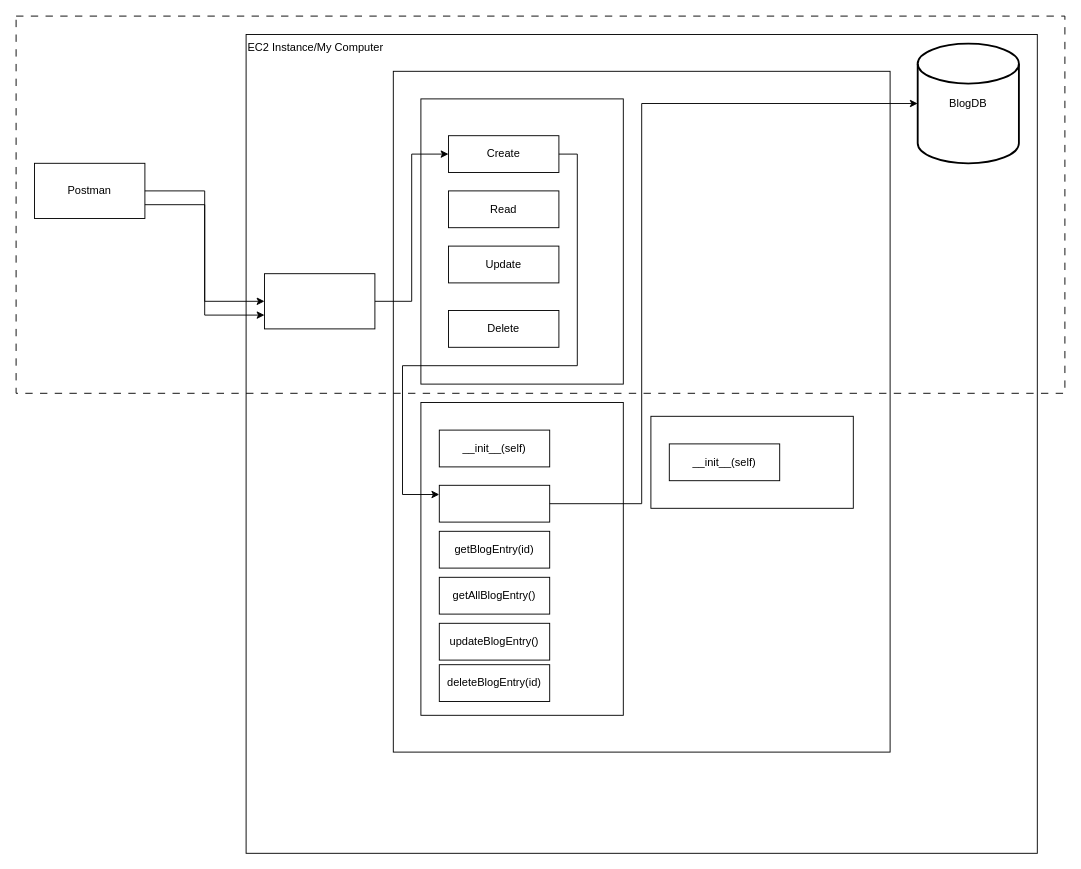
Some shapes in this 1081 by 869 pixel diagram are drawn without their labels. Here are the shapes that lost their labels. From the top down, the box of each, then its label:
(420, 98, 623, 384): app.py (API)
(264, 273, 375, 329): Web Server (127.0.0.1)
(392, 70, 890, 752): Flask App
(650, 415, 853, 508): BlogEntry.py
(438, 484, 550, 522): createBlogEntry()
(420, 402, 623, 715): MyBlog.py
